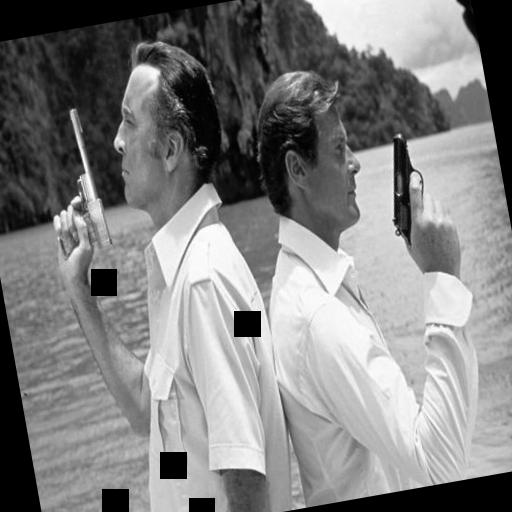Handgun: (18, 98, 111, 258), (358, 118, 448, 260)
